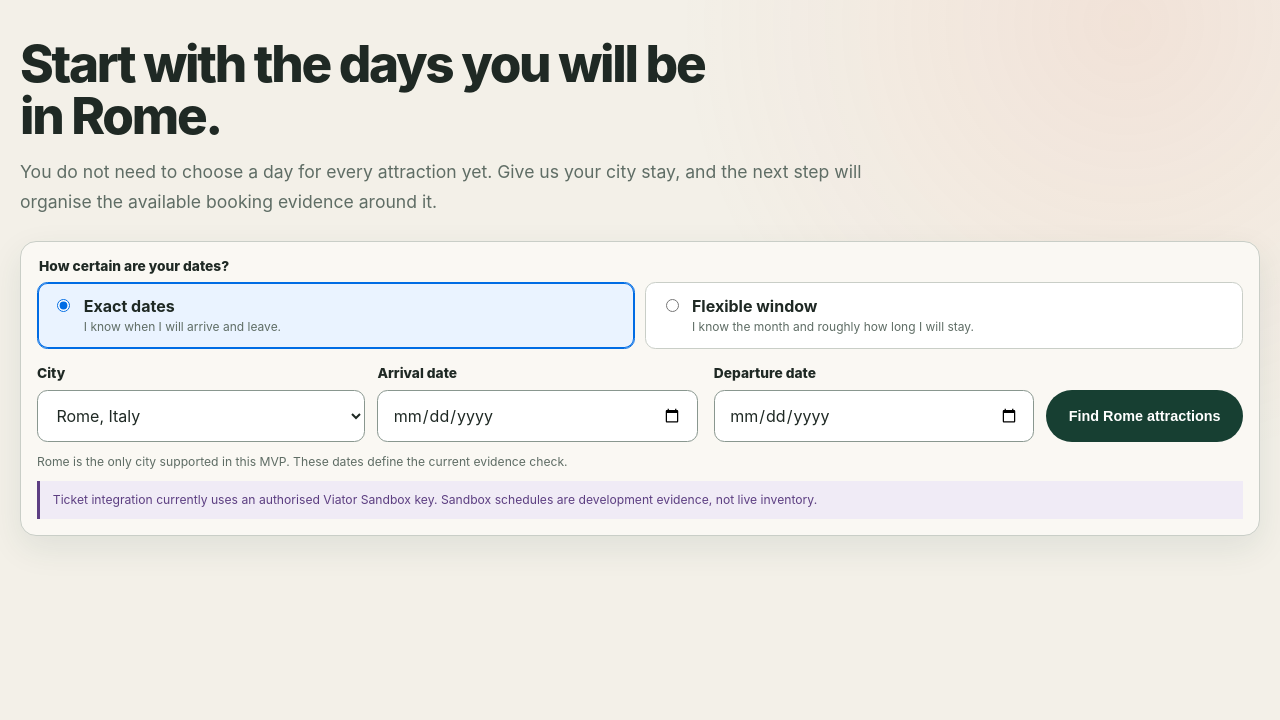
Test: PlanPage › rejects manually entered past dates even when native validation is disabled
Step 1. Type "2026-09-10" into the date field labelled "Arrival date" → (538, 416), box [377,390,698,442]
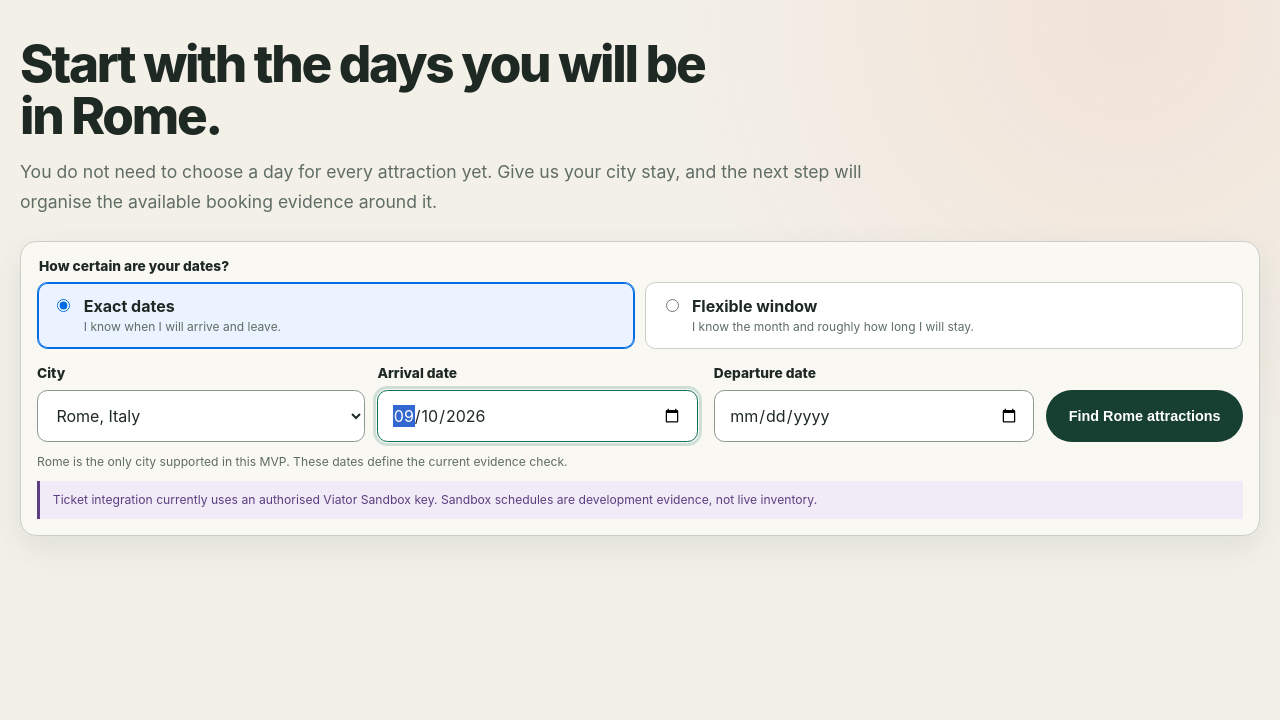
Step 2. Type "2026-09-12" into the date field labelled "Departure date" → (874, 416), box [714,390,1034,442]
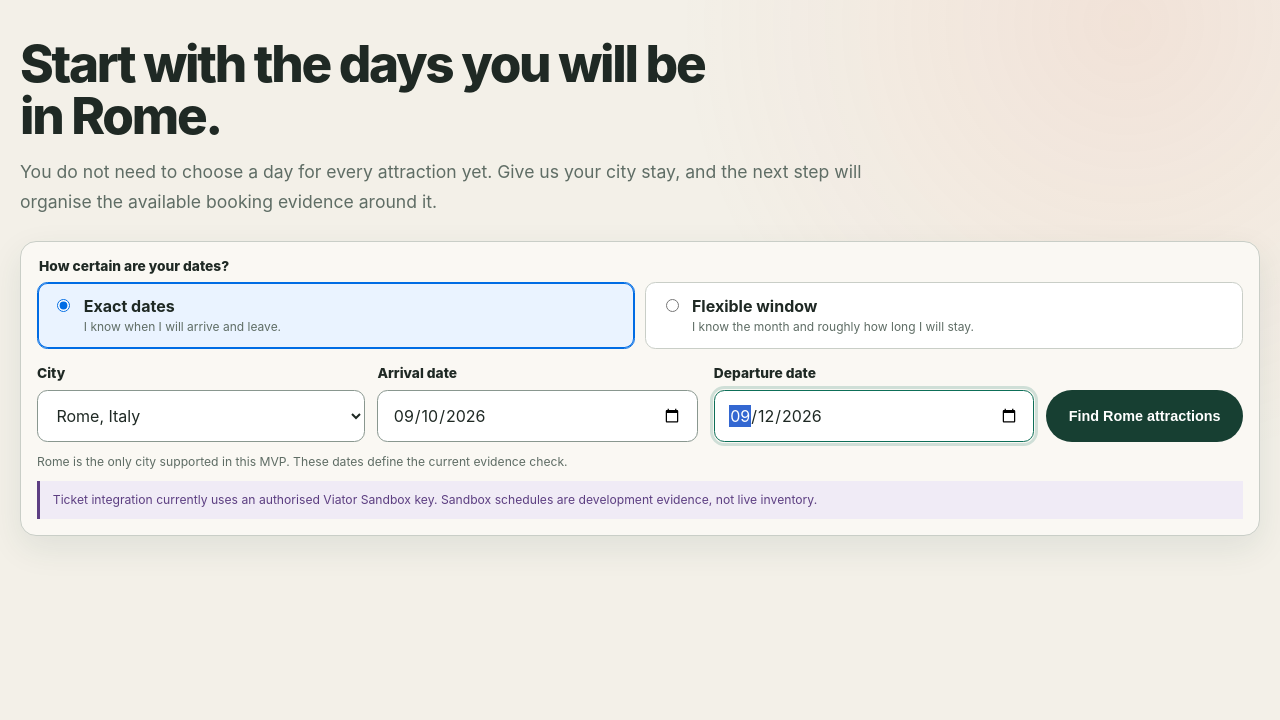
Step 3. Click the button "Find Rome attractions" → (1145, 416), box [1046,390,1243,442]
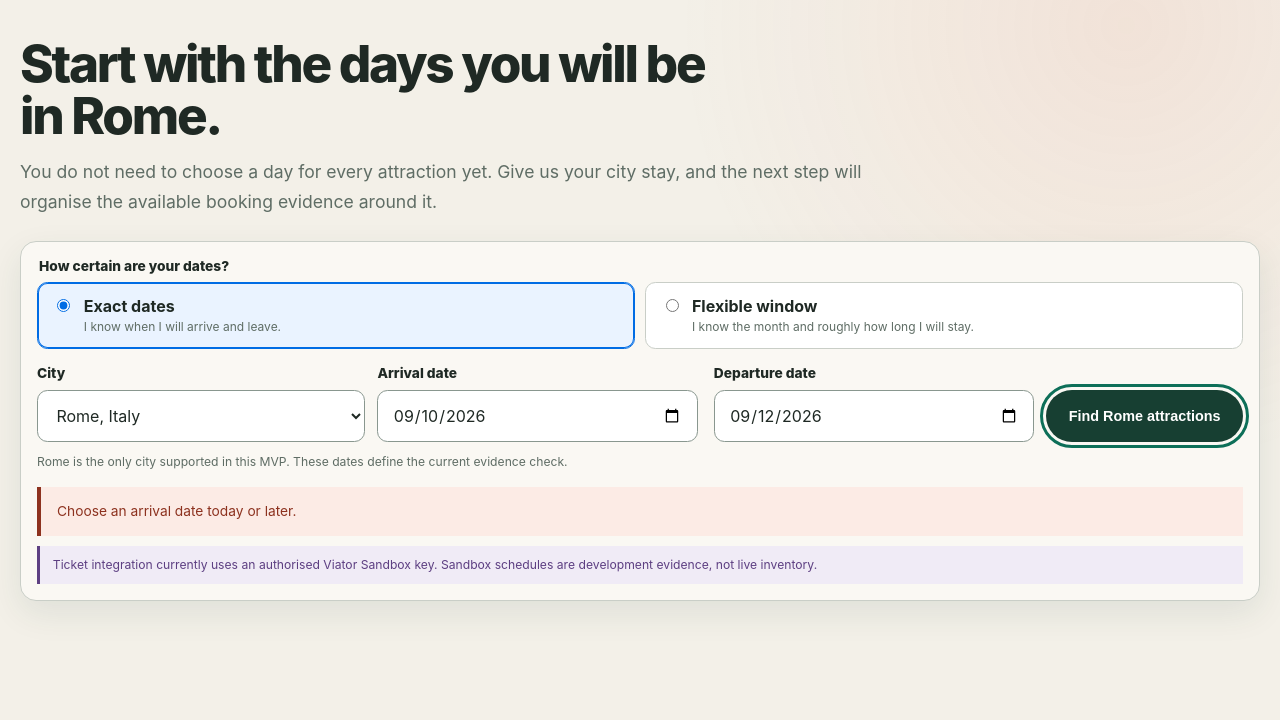
Result: the message reads "Choose an arrival date today or later." at [57,503,296,519]
